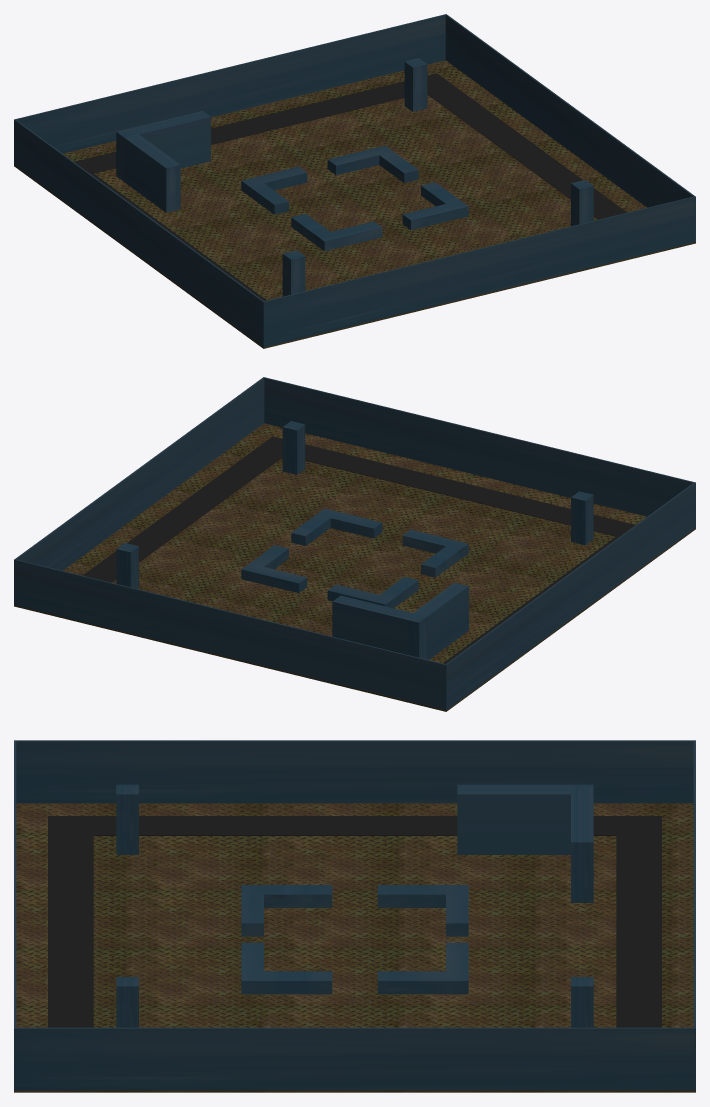
Rendered from Factory.fbx.
The picture shows the model from 3 angles, top to bottom: view 1: azimuth 30°, elevation 25°; view 2: azimuth 150°, elevation 25°; view 3: azimuth 270°, elevation 25°; orthographic projection. The views are drawn at different scales.
Visible parts, largest first — view 1: Cube, 立方体.001, 立方体, 立方体.003, 立方体.002, 立方体.008, 立方体.007, 立方体.011, 立方体.010, 立方体.004, 立方体.005, 立方体.006 (+1 smaller); view 2: Cube, 立方体, 立方体.001, 立方体.003, 立方体.002, 立方体.007, 立方体.008, 立方体.009, 立方体.011, 立方体.006, 立方体.005, 立方体.004 (+1 smaller); view 3: Cube, 立方体.002, 立方体.003, 立方体.008, 立方体.007, 立方体.010, 立方体.009, 立方体.012, 立方体.005, 立方体.004, 立方体.006, 立方体 (+1 smaller).
Part boxes in pixels (x1,y1,x2,y2): Cube: [14, 60, 695, 348]; 立方体.001: [262, 196, 694, 347]; 立方体: [15, 14, 446, 153]; 立方体.003: [14, 119, 263, 346]; 立方体.002: [445, 14, 695, 241]; 立方体.008: [241, 145, 468, 251]; 立方体.007: [116, 110, 210, 212]; 立方体.011: [427, 73, 626, 219]; 立方体.010: [74, 81, 404, 173]; 立方体.004: [404, 58, 427, 111]; 立方体.005: [282, 250, 305, 296]; 立方体.006: [571, 180, 593, 226]; Cube: [14, 423, 695, 711]; 立方体: [14, 559, 445, 709]; 立方体.001: [264, 377, 695, 527]; 立方体.003: [445, 483, 695, 710]; 立方体.002: [15, 377, 264, 570]; 立方体.007: [332, 582, 468, 659]; 立方体.008: [241, 508, 468, 608]; 立方体.009: [256, 436, 632, 536]; 立方体.011: [83, 448, 282, 582]; 立方体.006: [282, 421, 305, 474]; 立方体.005: [571, 491, 593, 545]; 立方体.004: [116, 543, 138, 589]; Cube: [14, 803, 695, 1092]; 立方体.002: [14, 1027, 693, 1090]; 立方体.003: [16, 740, 695, 803]; 立方体.008: [241, 885, 468, 994]; 立方体.007: [457, 784, 593, 902]; 立方体.010: [616, 816, 661, 1027]; 立方体.009: [48, 835, 93, 1027]; 立方体.012: [48, 816, 616, 835]; 立方体.005: [116, 784, 138, 854]; 立方体.004: [571, 977, 593, 1027]; 立方体.006: [116, 977, 138, 1027]; 立方体: [693, 741, 695, 1090].
Bounding box in the file's own units: 600 × 62 × 600.
5 materials, 4 textured.
